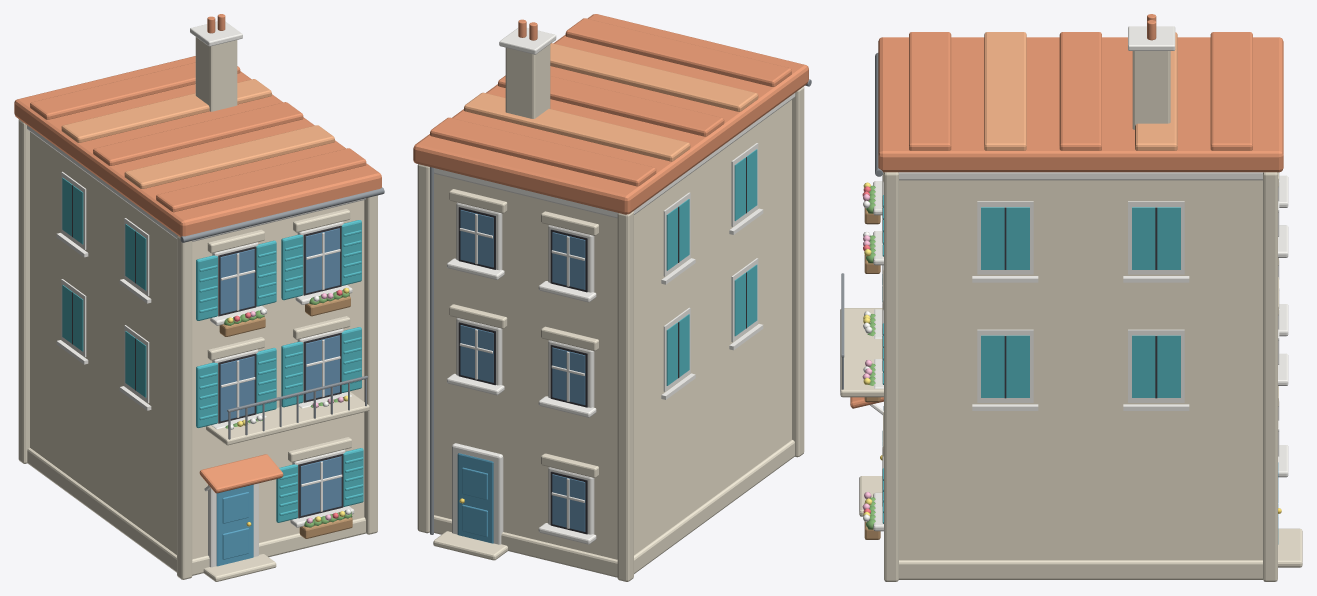
Rendered from terrace_a.fbx.
3 views of the same model, side by side, from view 1: azimuth 30°, elevation 25°; view 2: azimuth 150°, elevation 25°; view 3: azimuth 270°, elevation 25° (orthographic). The views are drawn at different scales.
Visible parts, largest first — view 1: Visual; view 2: Visual; view 3: Visual.
Boxes of the visible parts, x1,y1,x2,y2 form: Visual: (14,14,384,581); Visual: (413,14,811,581); Visual: (840,14,1302,581).
Size of what is drawn, in the model's own units: 590 by 1256 by 980.
